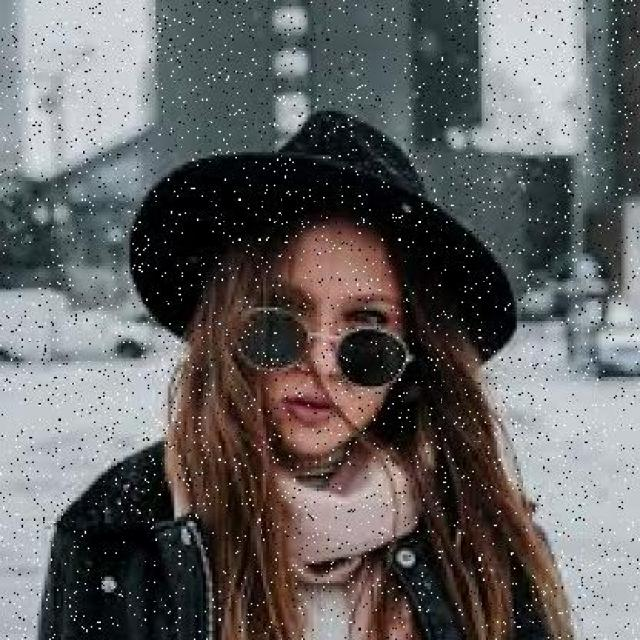glasses: (216, 283, 422, 408)
